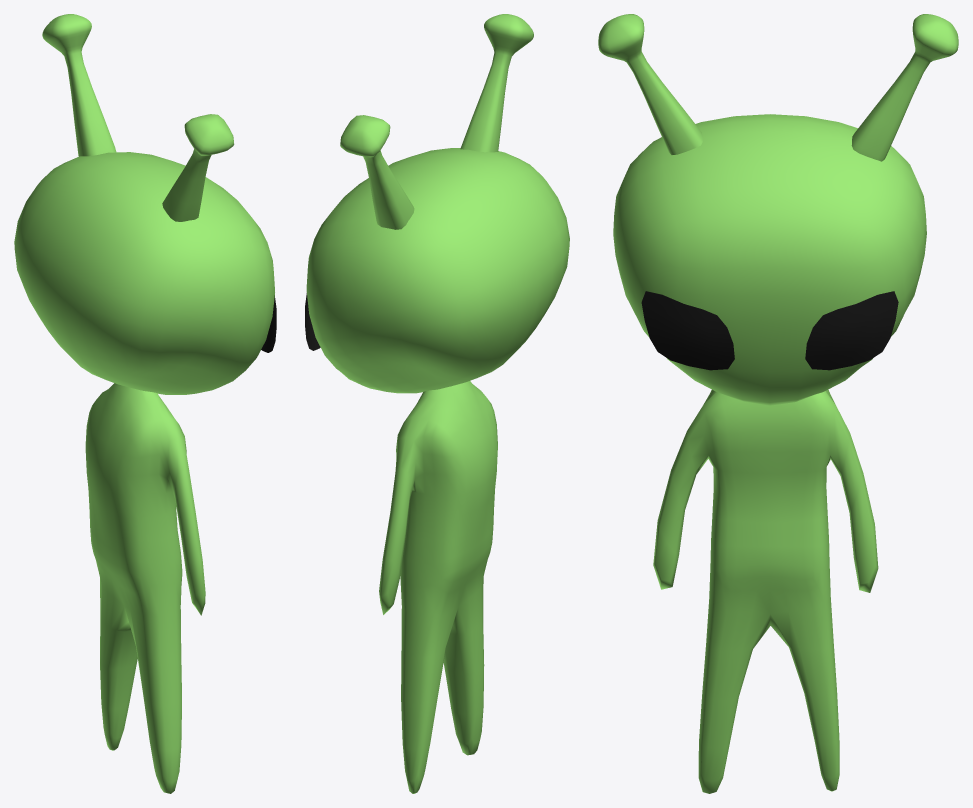
The model's file is green_alien.fbx.
3 renders of one model, left to right at view 1: azimuth 30°, elevation 25°; view 2: azimuth 150°, elevation 25°; view 3: azimuth 270°, elevation 25°, orthographic. The views are drawn at different scales.
Parts seen in each view (by area): view 1: Cube, 立方体, 立方体.001, 立方体.002; view 2: Cube, 立方体, 立方体.002, 立方体.001; view 3: Cube, 立方体, 立方体.001, 平面.001, 平面, 立方体.002.
Part boxes in pixels (x1,y1,x2,y2): Cube: [14, 152, 274, 394]; 立方体: [85, 383, 205, 793]; 立方体.001: [42, 14, 116, 156]; 立方体.002: [162, 114, 234, 221]; Cube: [306, 148, 569, 393]; 立方体: [379, 381, 497, 793]; 立方体.002: [460, 14, 533, 152]; 立方体.001: [340, 115, 414, 229]; Cube: [613, 114, 926, 405]; 立方体: [653, 389, 878, 793]; 立方体.001: [851, 14, 958, 161]; 平面.001: [805, 291, 898, 370]; 平面: [641, 291, 734, 370]; 立方体.002: [598, 14, 702, 154].
Bounding box in the file's own units: 178 × 611 × 257.
